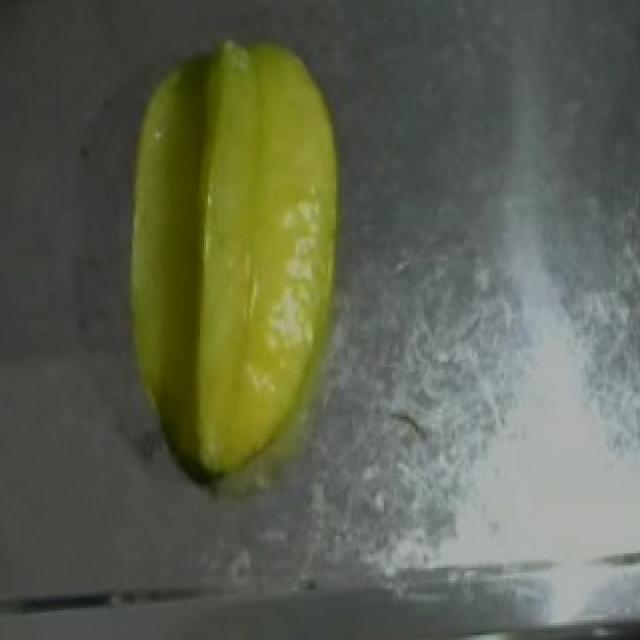fruit: (104, 15, 378, 399)
